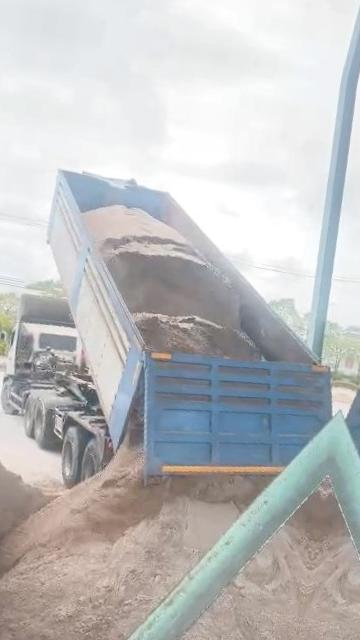sand: (0, 444, 268, 640), (84, 205, 261, 359), (154, 504, 321, 640), (0, 454, 65, 547)
